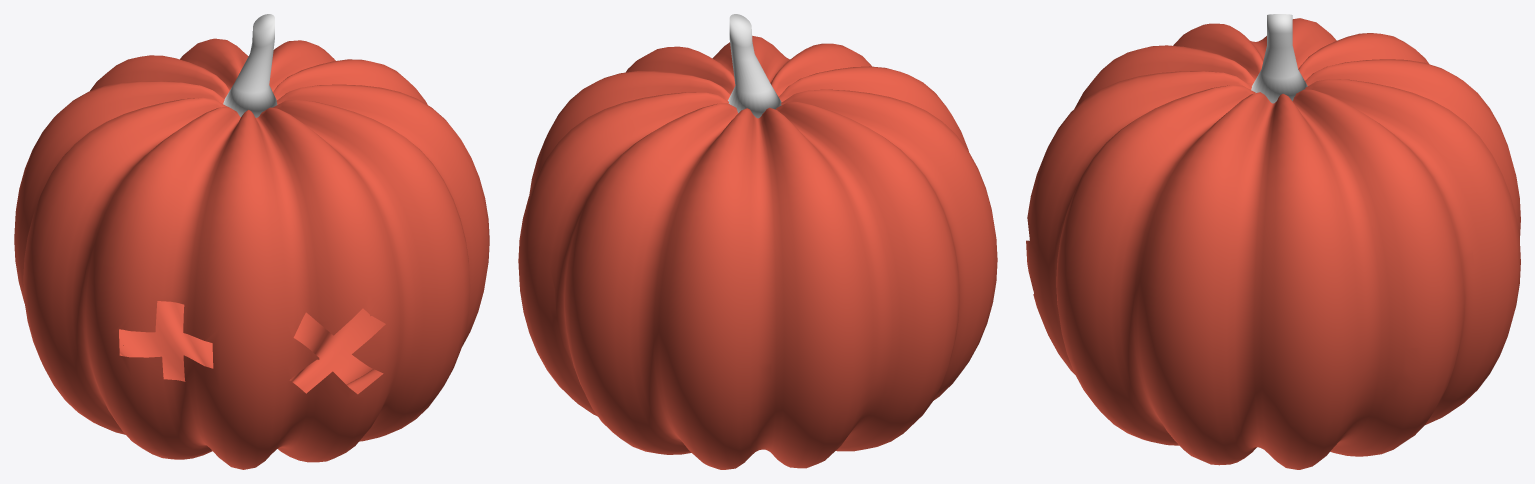
File: lightt.fbx
The picture shows the model from 3 angles, left to right: view 1: azimuth 30°, elevation 25°; view 2: azimuth 150°, elevation 25°; view 3: azimuth 270°, elevation 25°; orthographic projection. The views are drawn at different scales.
Visible parts, largest first — view 1: Sphere, Cylinder; view 2: Sphere, Cylinder; view 3: Sphere, Cylinder.
Boxes of the visible parts, bbox=[...] form: Sphere: bbox=[14, 38, 489, 469]; Cylinder: bbox=[223, 14, 277, 117]; Sphere: bbox=[518, 36, 997, 469]; Cylinder: bbox=[728, 14, 781, 118]; Sphere: bbox=[1026, 18, 1520, 469]; Cylinder: bbox=[1251, 14, 1307, 103].
Size of the model in its own units: 195 by 183 by 194.
